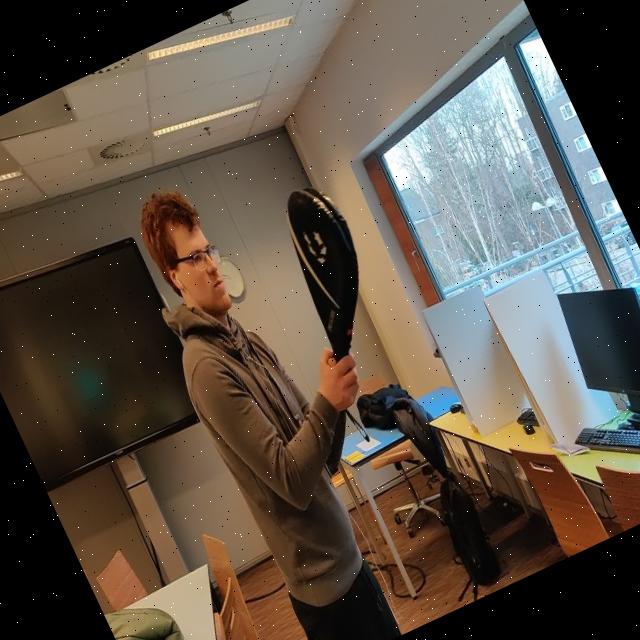paddle: (288, 186, 358, 363)
